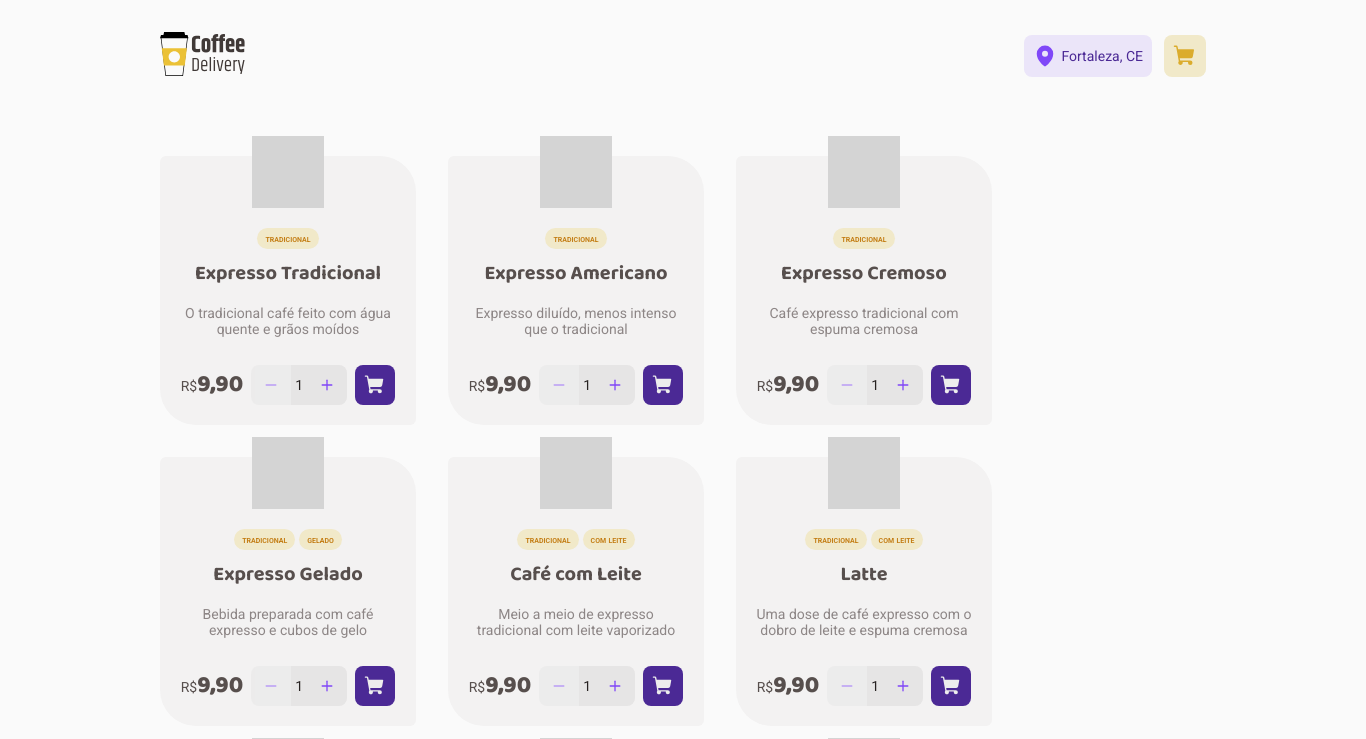
Test: App Component Integration › should be able to -1 item when minus button is clicked
(page scrolled)
Expected: the 1st text with test id "amount" reads "1", 295,377 -> 303,393
Click the 1st button with test id "plus-btn": (327, 385) 307,365 -> 347,405
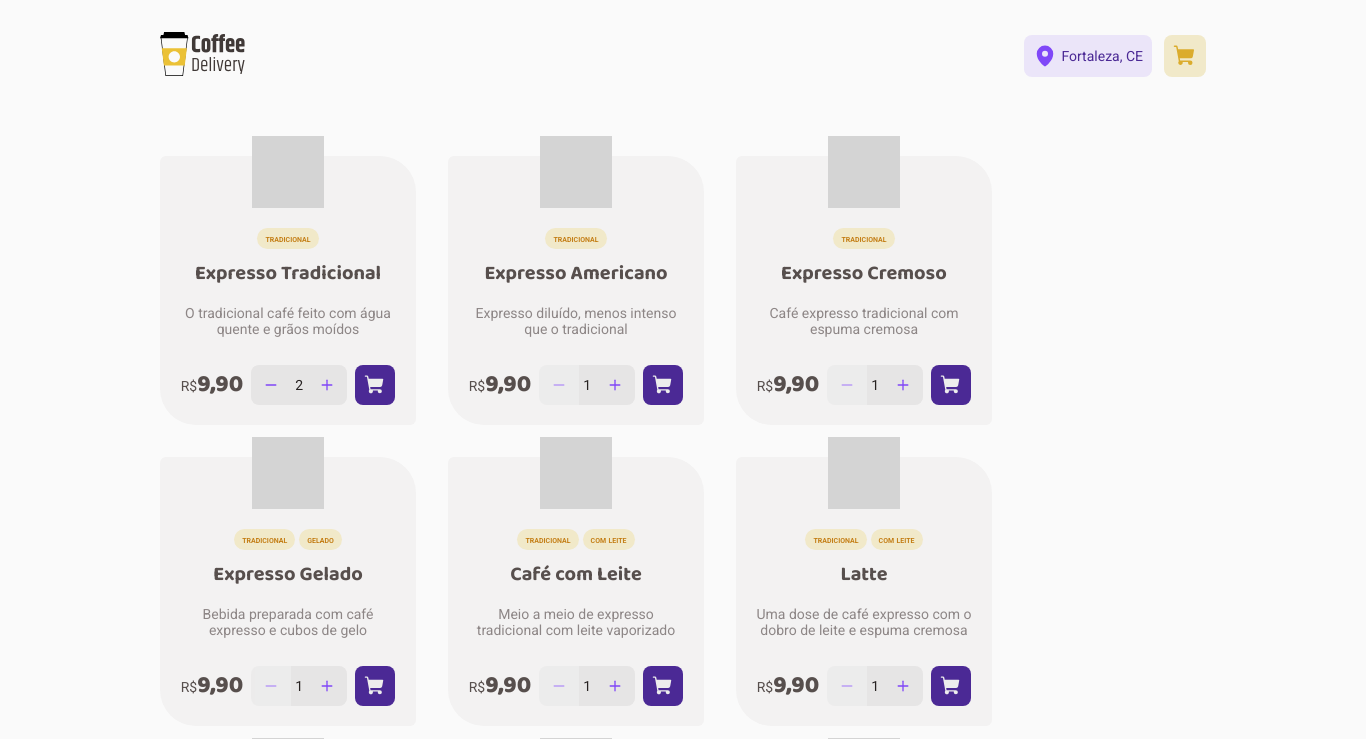
Expected: the text with test id "amount" reads "2", 295,377 -> 303,393
Click the 1st button with test id "minus-btn": (271, 385) 251,365 -> 291,405
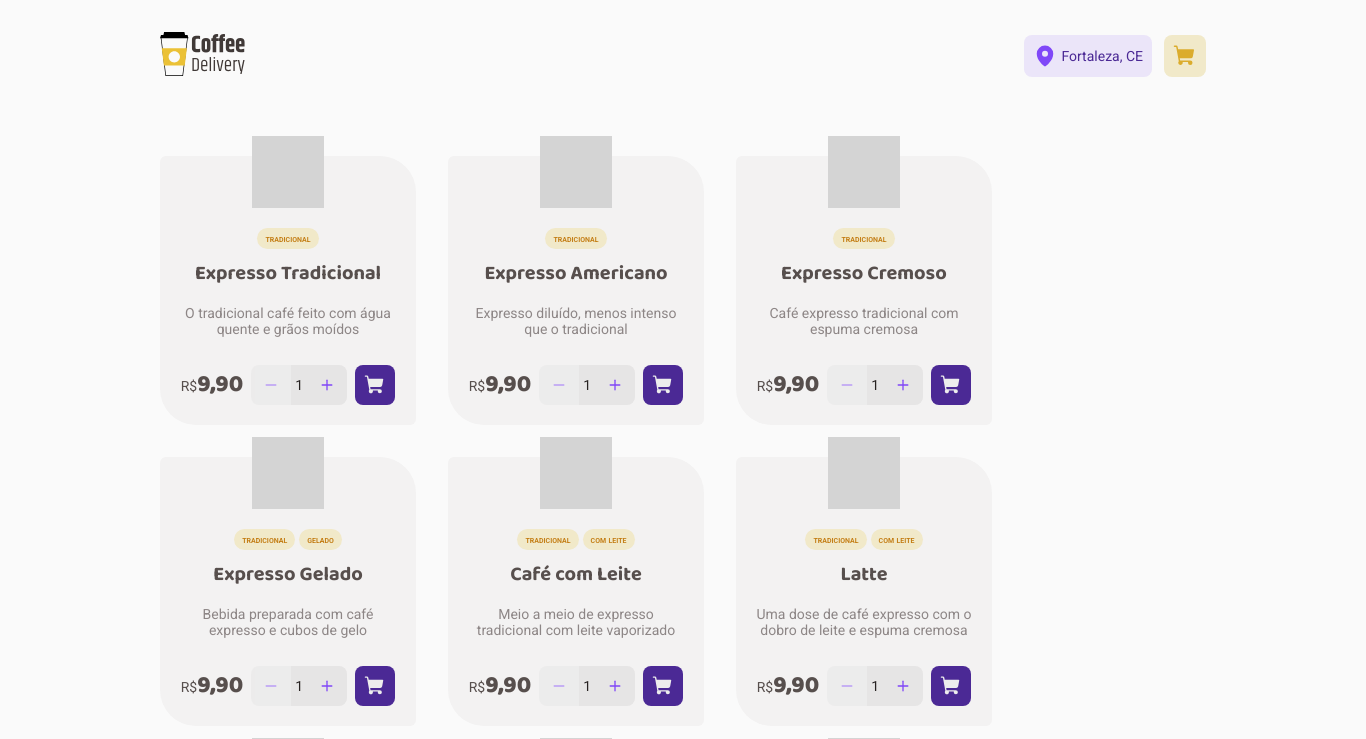
Expected: the 1st text with test id "amount" reads "1", 295,377 -> 303,393
